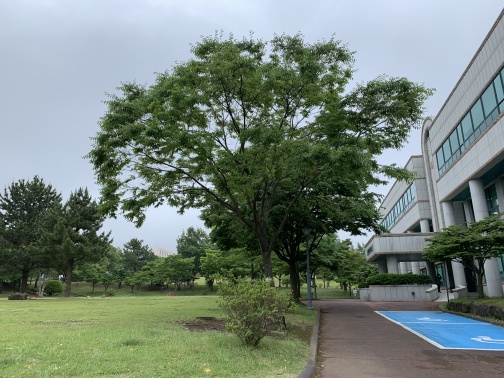Second Library: (349, 31, 504, 301)
